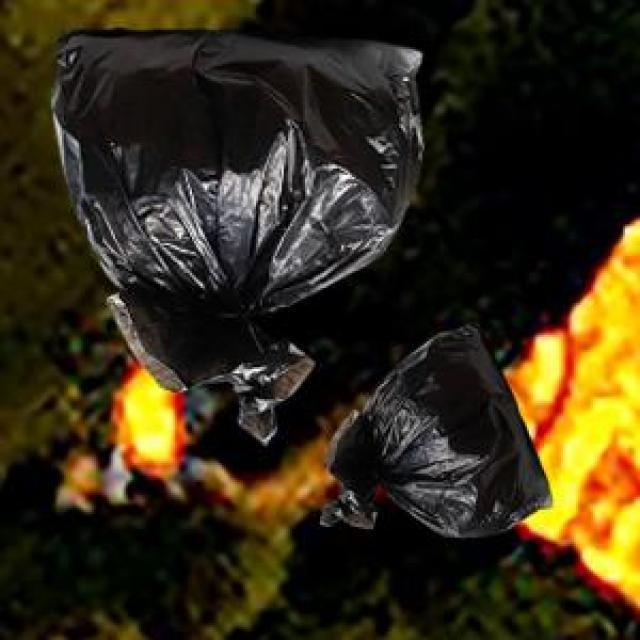Vinyl: (55, 32, 422, 448), (322, 328, 550, 537)
